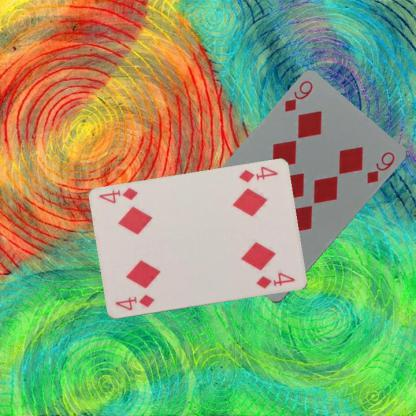4d: (112, 292, 156, 312), (236, 164, 279, 184)
9d: (281, 78, 314, 114)
